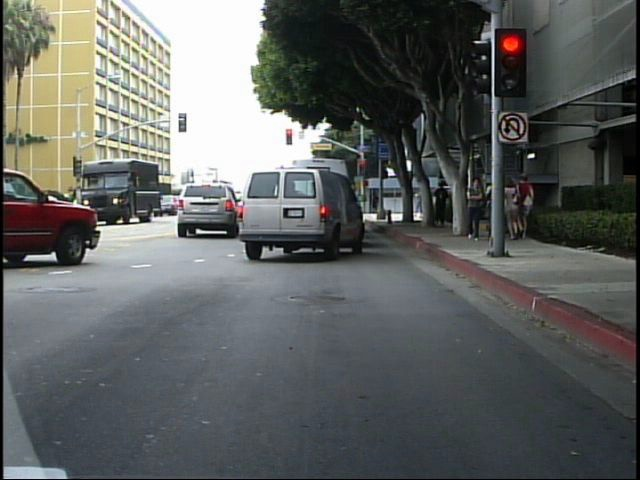person: (517, 171, 540, 245), (503, 170, 523, 244), (467, 175, 487, 242), (433, 175, 453, 230), (412, 185, 424, 217)
